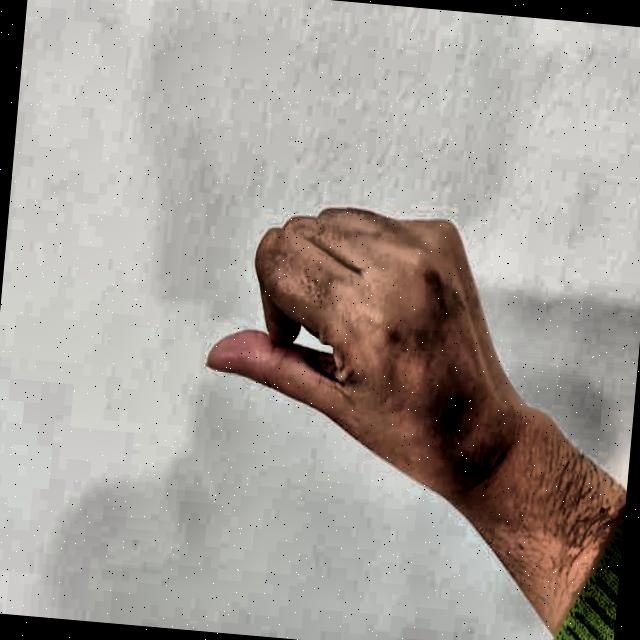Ay: (178, 149, 502, 533)
